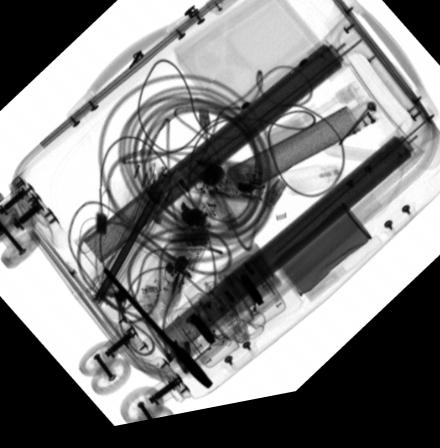Wrench: (101, 271, 212, 397)
